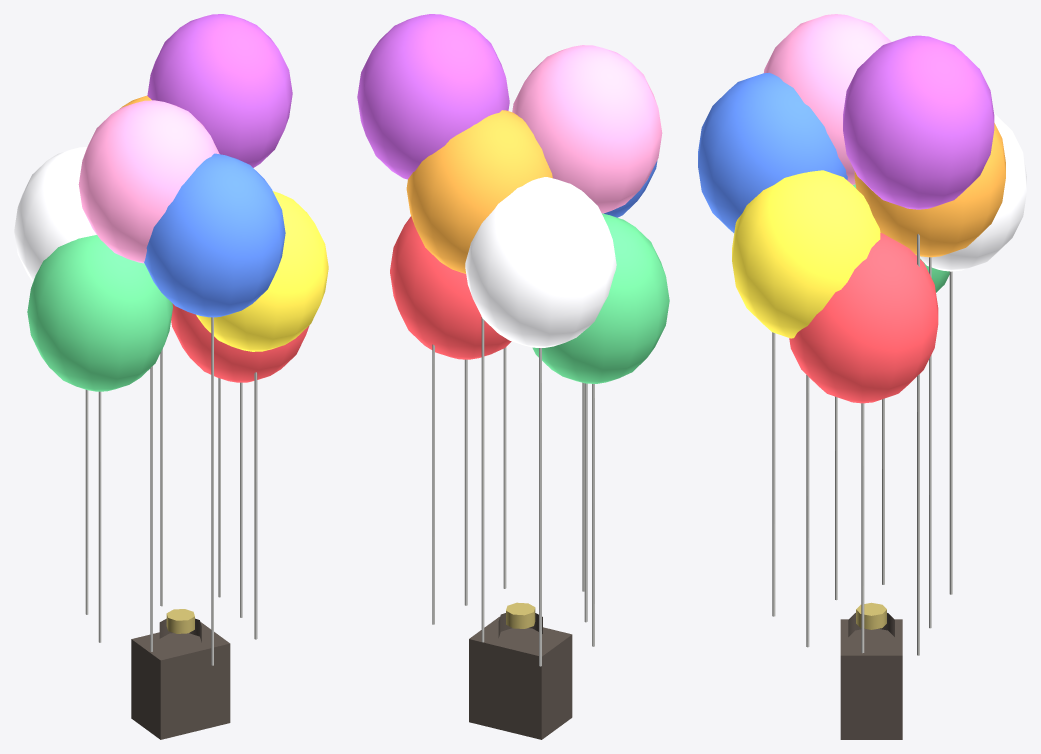
File: prop_balloons.glb
3 views of the same model, side by side, from view 1: azimuth 30°, elevation 25°; view 2: azimuth 150°, elevation 25°; view 3: azimuth 270°, elevation 25° (orthographic). The views are drawn at different scales.
Parts seen in each view (by area): view 1: balloon_3, balloon_5, balloon_8, balloon_4, weight, balloon_2, balloon_6, balloon_1, balloon_7; view 2: balloon_6, balloon_4, balloon_8, balloon_7, weight, balloon_5, balloon_1, balloon_3, balloon_2; view 3: balloon_8, balloon_2, balloon_1, balloon_3, balloon_4, weight, balloon_7, balloon_6, balloon_5.
Part boxes in pixels (x1,y1,x2,y2): balloon_3: (144,153,285,665); balloon_5: (27,235,172,642); balloon_8: (147,14,292,597); balloon_4: (78,100,219,651); weight: (131,609,230,739); balloon_2: (196,191,328,639); balloon_6: (14,147,96,614); balloon_1: (171,303,309,617); balloon_7: (120,95,162,606); balloon_6: (465,177,616,666); balloon_4: (512,45,662,622); balloon_8: (357,14,509,624); balloon_7: (406,110,552,642); weight: (469,602,572,739); balloon_5: (532,213,669,646); balloon_1: (390,216,511,605); balloon_3: (582,160,657,591); balloon_2: (503,347,506,588); balloon_8: (843,35,994,655); balloon_2: (732,170,880,647); balloon_1: (789,232,938,653); balloon_3: (698,72,847,616); balloon_4: (764,14,891,600); weight: (840,602,902,739); balloon_7: (854,123,1005,628); balloon_6: (920,113,1026,594); balloon_5: (853,184,949,584).
Size of the model in its own units: 0.8305 by 2.02 by 0.8473.
